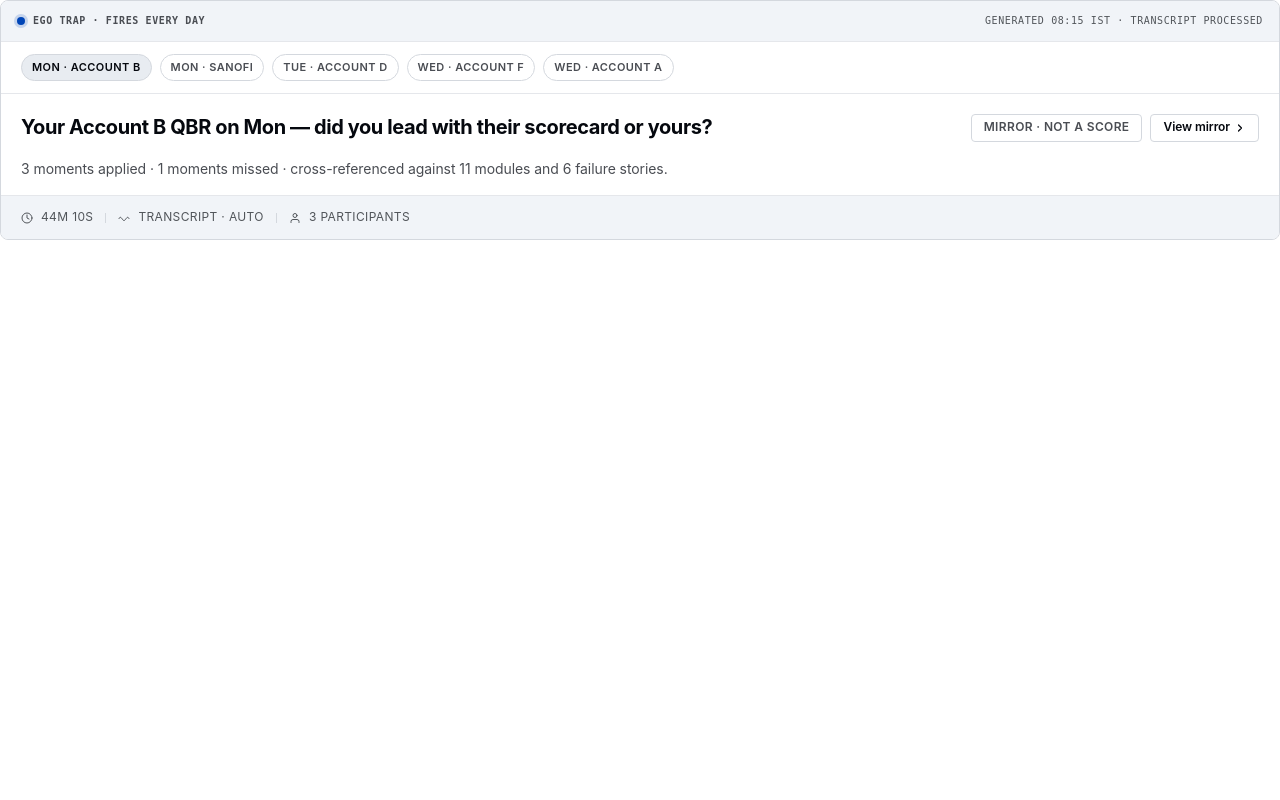
Test case: EgoTrapCard › shows applied and missed moments once the mirror is open
Click the button "View mirror": (1205,128) [1150, 114, 1259, 142]
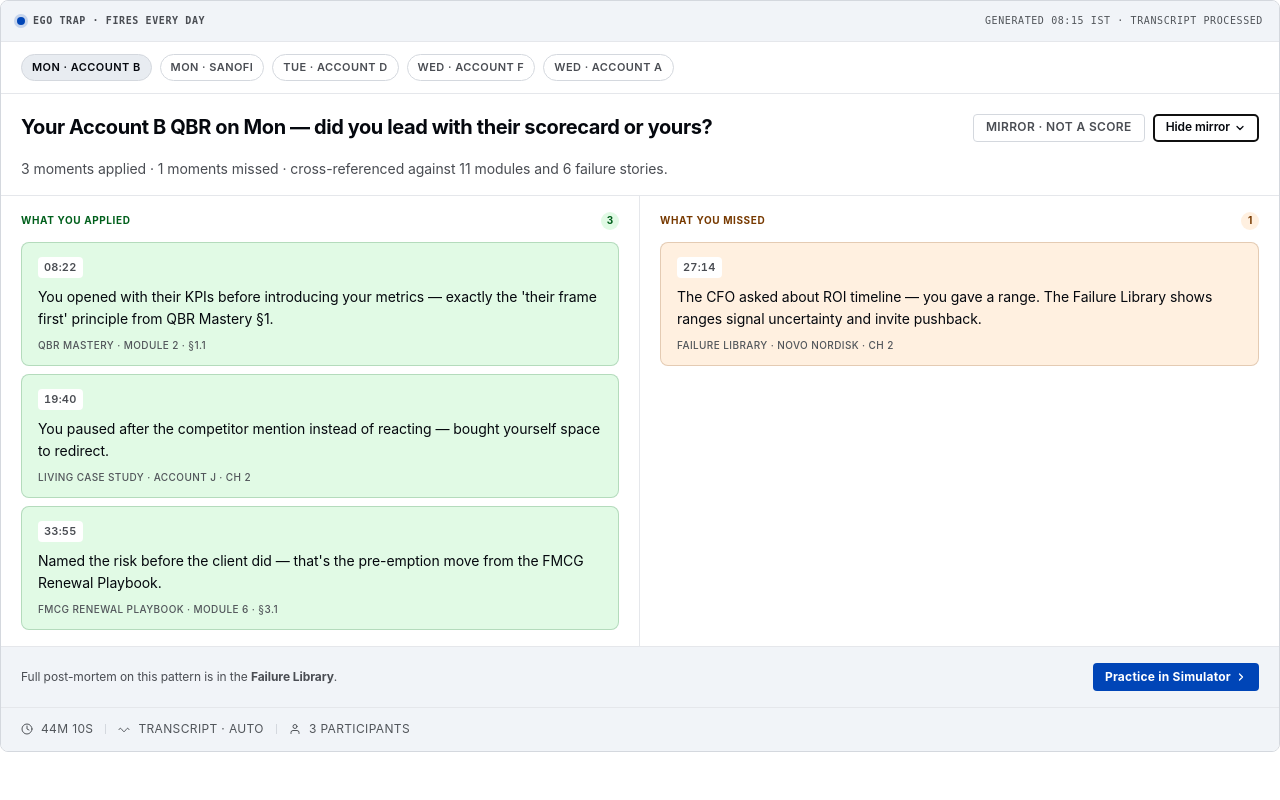
Check: the text "What you applied" is shown, box [21, 214, 130, 229]
Check: the text "You opened with their KPIs before introducing your metrics — exactly the 'their frame first' principle from QBR Mastery " is shown, box [38, 288, 597, 327]
